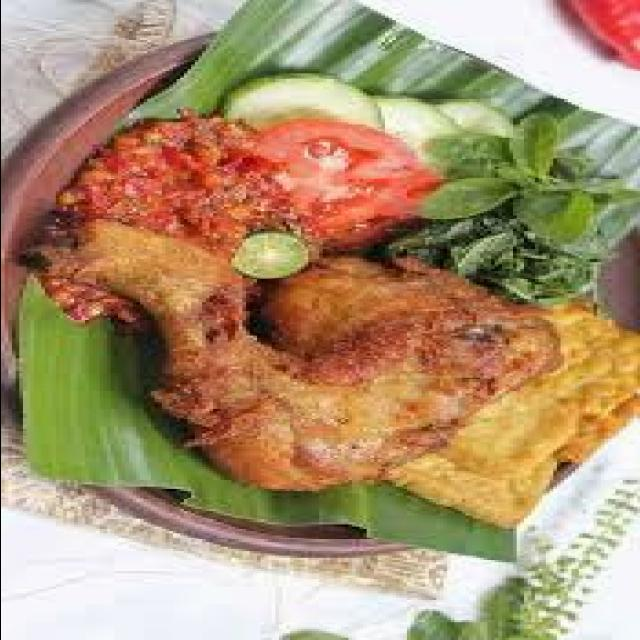ayam goreng: (26, 216, 563, 491)
